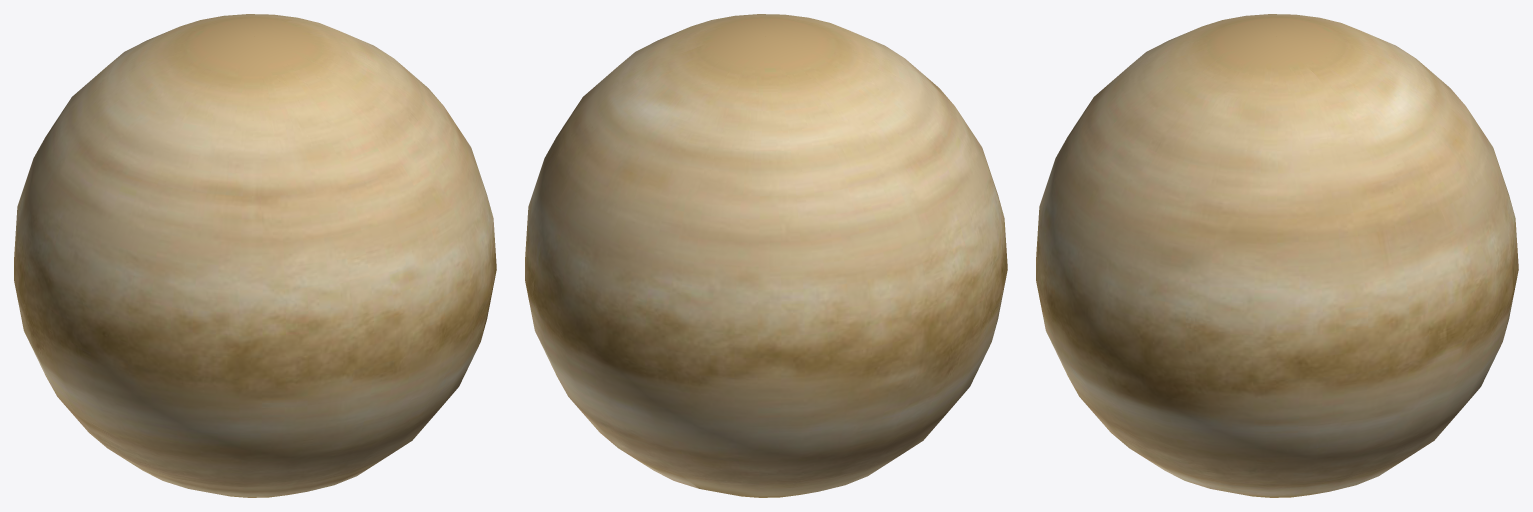
Rendered from Venus.FBX.
The picture shows the model from 3 angles, left to right: view 1: azimuth 30°, elevation 25°; view 2: azimuth 150°, elevation 25°; view 3: azimuth 270°, elevation 25°; orthographic projection.
Visible parts, largest first — view 1: Sun; view 2: Sun; view 3: Sun.
Part boxes in pixels (x1,y1,x2,y2): Sun: [14, 14, 496, 497]; Sun: [525, 14, 1007, 497]; Sun: [1036, 14, 1518, 497].
Size of the model in its own units: 11.07 by 11.11 by 11.05.
1 material, 1 textured.
